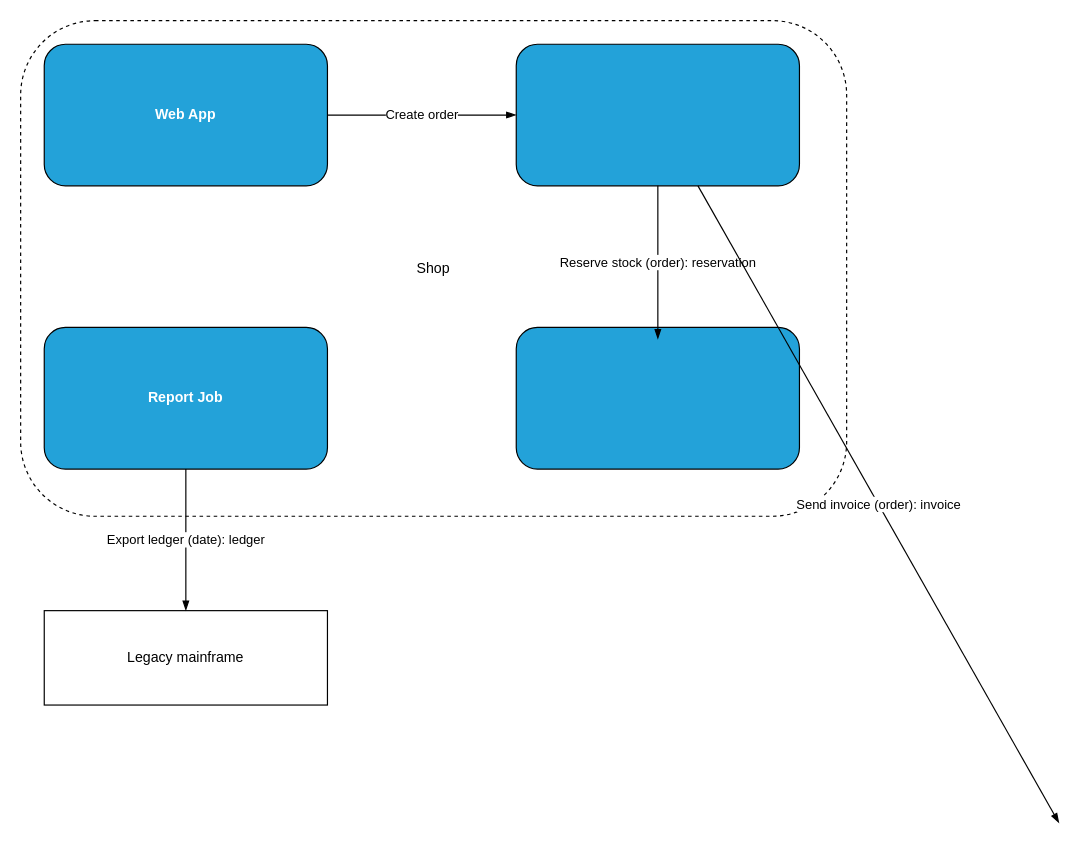
Some shapes in this 1089 by 853 pixel diagram are drawn without their labels. The shapes that lost their labels are listed below. From the top down, each one's box as (x1, y1, x2, y2) in pixels, then its label:
(515, 43, 799, 186): Order API
(515, 326, 799, 469): Stock DB
